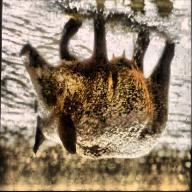boar: (16, 18, 192, 174)
